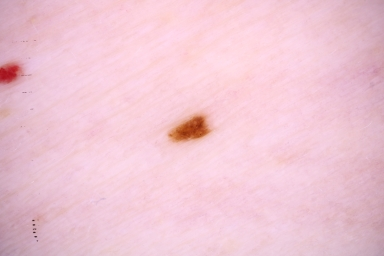nevus: (167, 115, 206, 141)
